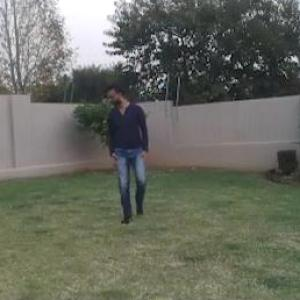follow: (108, 73, 151, 219)
